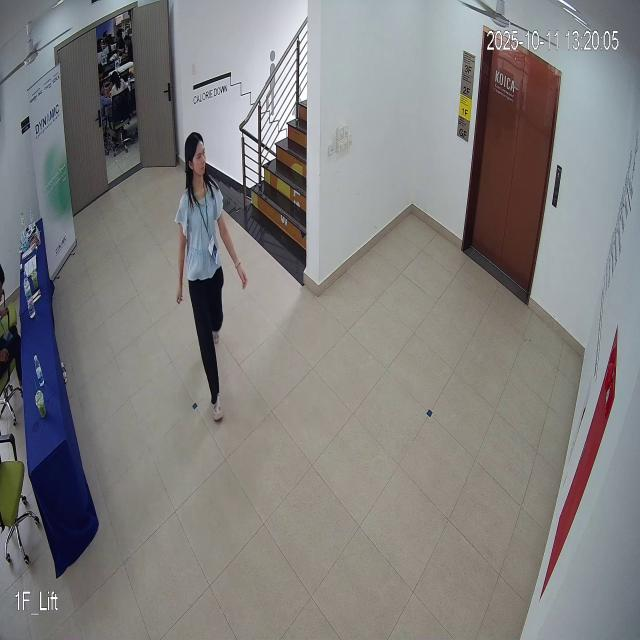face: (183, 125, 211, 188)
